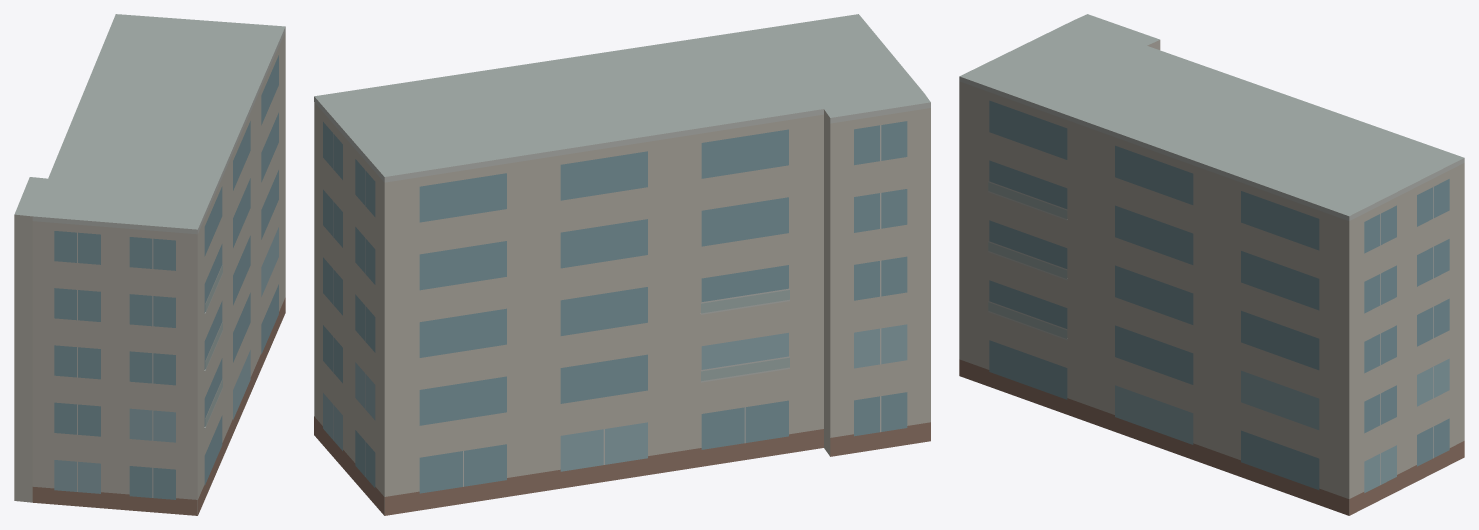
Rendered from survey-upis-32684498.glb.
3 views of the same model, side by side, from view 1: azimuth 30°, elevation 25°; view 2: azimuth 150°, elevation 25°; view 3: azimuth 270°, elevation 25° (orthographic). The views are drawn at different scales.
Parts seen in each view (by area): view 1: survey-upis-32684498.tmp; view 2: survey-upis-32684498.tmp; view 3: survey-upis-32684498.tmp.
Part boxes in pixels (x1,y1,x2,y2): survey-upis-32684498.tmp: (14,14,285,515); survey-upis-32684498.tmp: (314,14,930,515); survey-upis-32684498.tmp: (959,14,1464,515).
Bounding box in the file's own units: 21.44 × 14.8 × 22.62.
